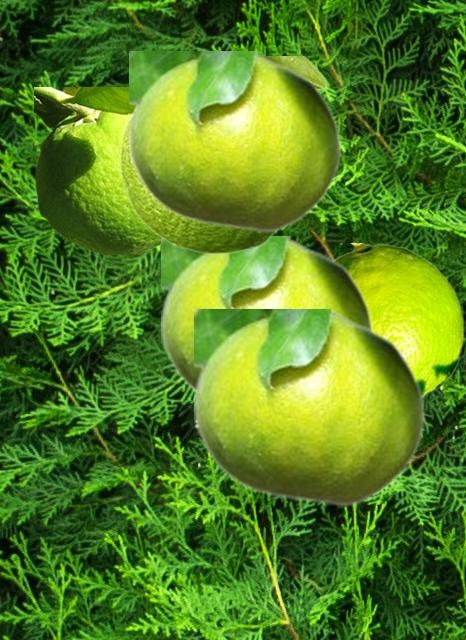dalandan: (194, 309, 425, 506), (119, 56, 326, 253), (129, 51, 341, 232), (161, 236, 373, 392), (34, 87, 160, 253), (334, 243, 463, 397)
